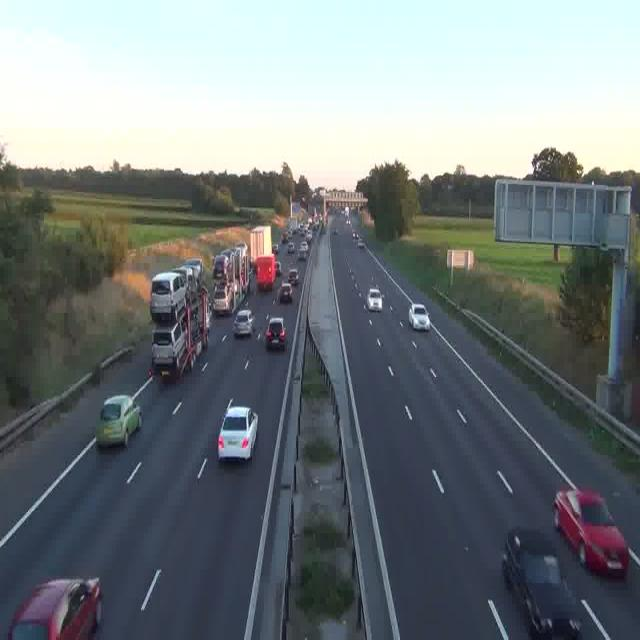car: (502, 525, 583, 640), (554, 488, 629, 578), (7, 578, 102, 640), (96, 395, 142, 448), (218, 404, 258, 460), (148, 269, 188, 320), (180, 260, 203, 296), (266, 318, 286, 351), (408, 303, 430, 330), (234, 308, 254, 337), (366, 288, 383, 311), (278, 282, 292, 303), (287, 268, 299, 286), (298, 248, 307, 260), (356, 237, 364, 248), (304, 232, 312, 243), (332, 225, 338, 235)
truck: (150, 289, 211, 379), (249, 226, 277, 290)
